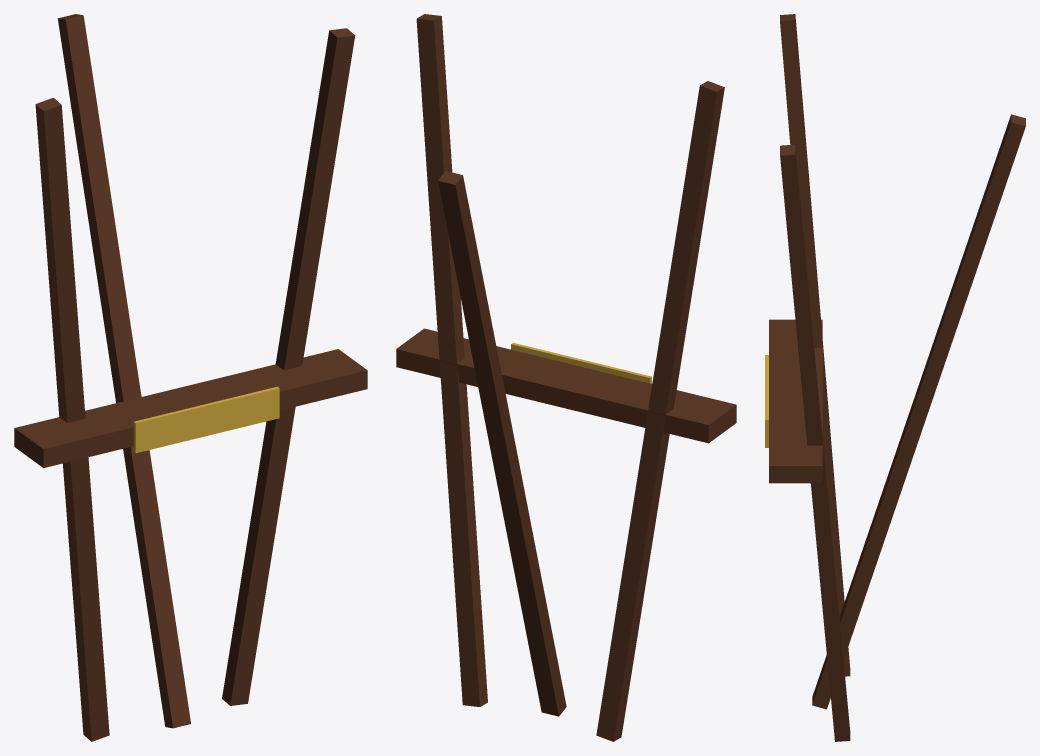
File: auction_easel.glb
3 renders of one model, left to right at view 1: azimuth 30°, elevation 25°; view 2: azimuth 150°, elevation 25°; view 3: azimuth 270°, elevation 25°, orthographic. The views are drawn at different scales.
Visible parts, largest first — view 1: legs_auction_wood (×3), ledge_auction_wood, ledge_auction_gold; view 2: legs_auction_wood (×3), ledge_auction_wood, ledge_auction_gold; view 3: legs_auction_wood (×3), ledge_auction_wood.
Boxes of the visible parts, <box> form: legs_auction_wood (×3): <box>35,14,355,741</box>; ledge_auction_wood: <box>14,349,367,467</box>; ledge_auction_gold: <box>133,386,279,453</box>; legs_auction_wood (×3): <box>416,14,724,741</box>; ledge_auction_wood: <box>396,328,736,443</box>; ledge_auction_gold: <box>511,342,651,383</box>; legs_auction_wood (×3): <box>780,14,1025,741</box>; ledge_auction_wood: <box>769,319,822,483</box>.
Bounding box in the file's own units: 0.9 × 1.79 × 0.6777.
